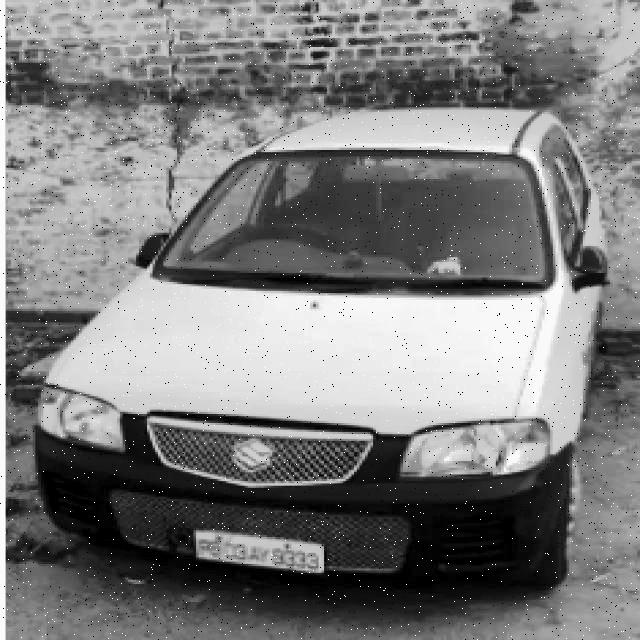Car: (35, 93, 629, 583)
